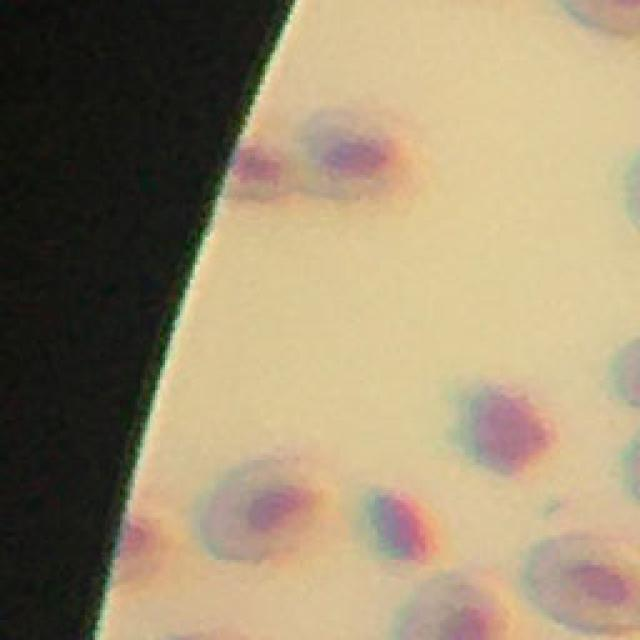RBC: (198, 457, 342, 564), (521, 530, 640, 638), (284, 106, 414, 199), (391, 568, 536, 640), (222, 126, 292, 203)
WBC: (465, 388, 558, 476), (369, 484, 439, 563)
